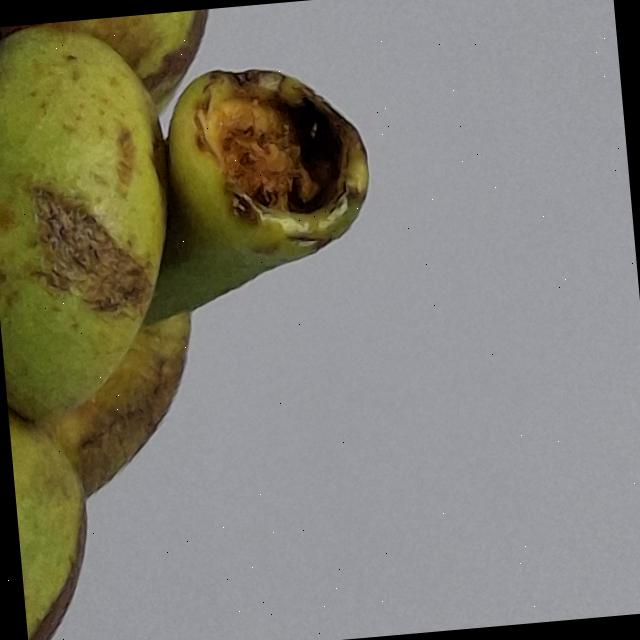mangosteen: (0, 0, 462, 640)
